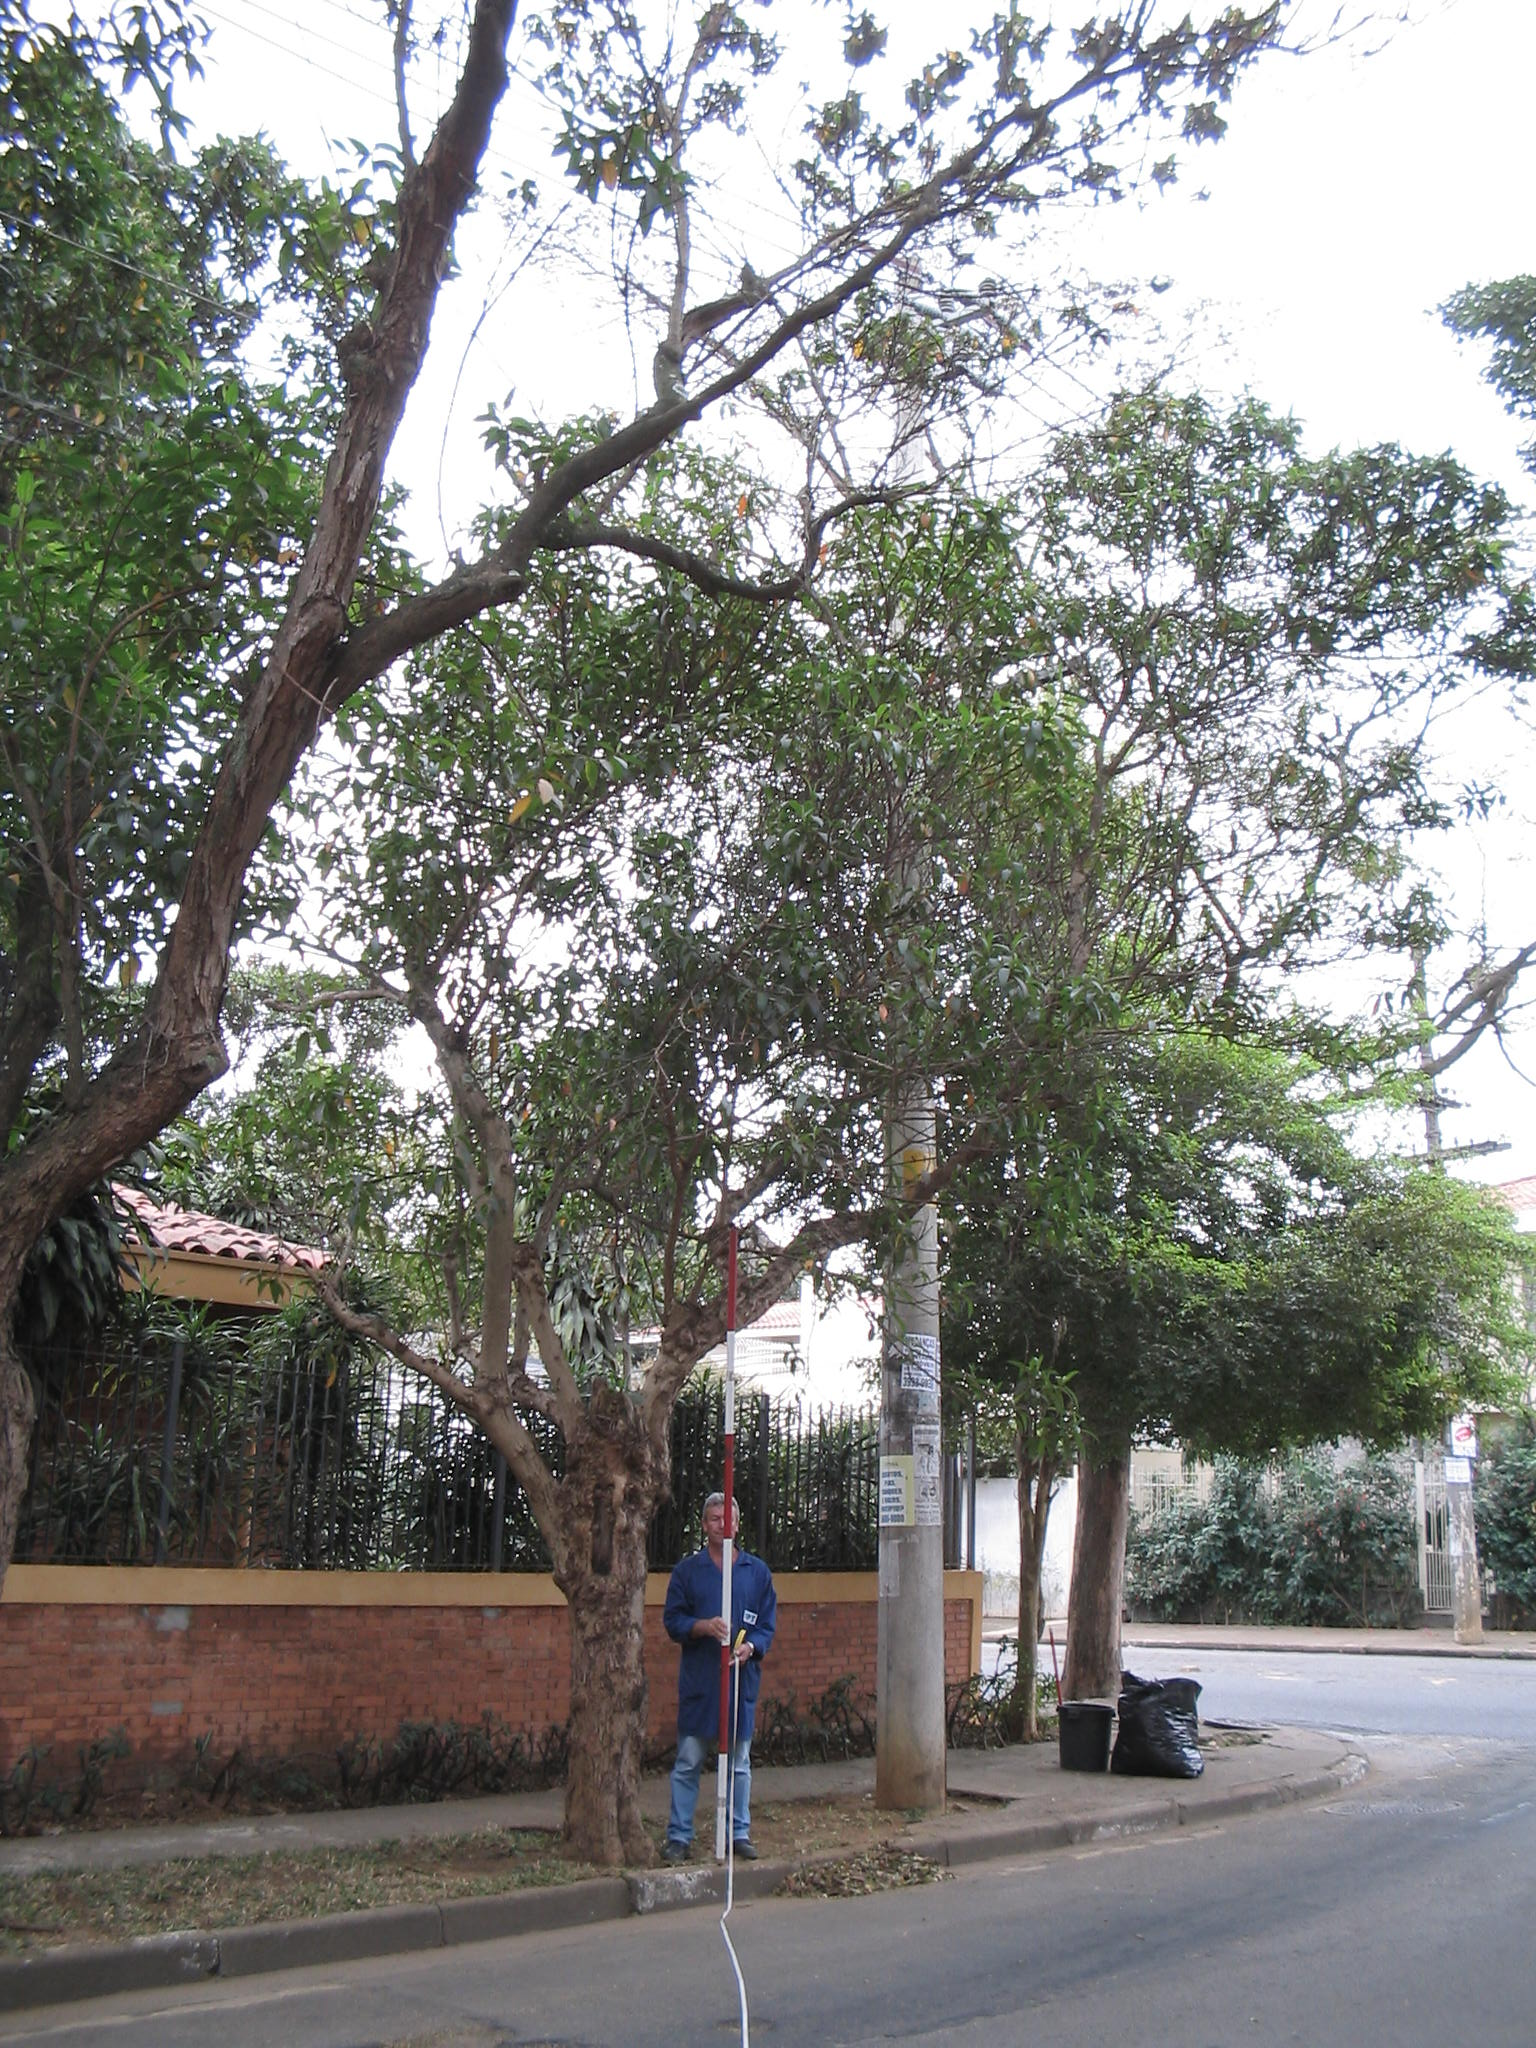crown: (244, 521, 1171, 1261), (954, 1050, 1525, 1447)
stem: (516, 1496, 678, 1861), (1050, 1458, 1167, 1703)
stick: (679, 1226, 771, 1859)
tree: (232, 513, 1183, 1871), (937, 1040, 1525, 1711)
